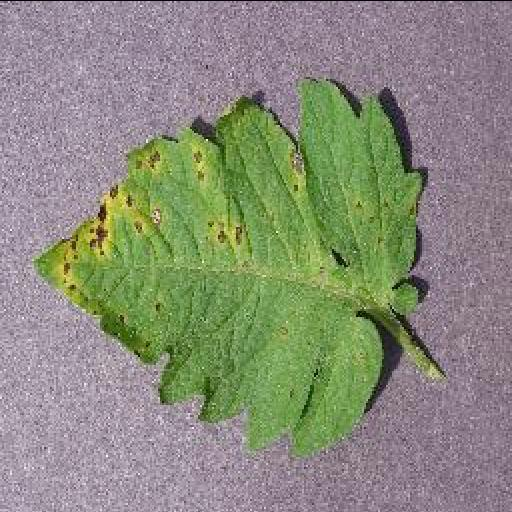disease_tomato: (32, 76, 422, 460)
